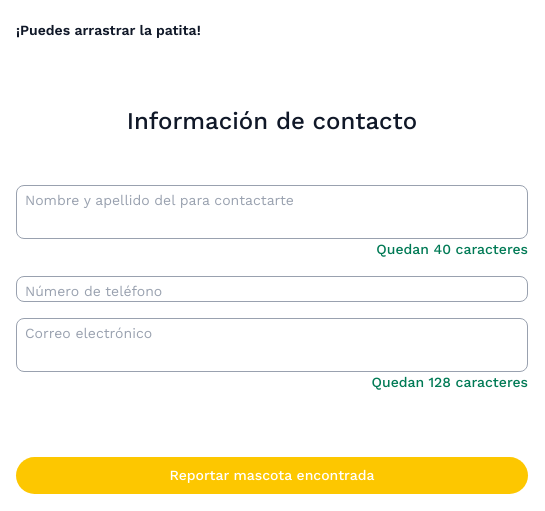
FoundPetReportForm Component › shows all required field errors when form is empty
(page scrolled)
Click the button "Reportar mascota encontrada" at coordinates (272, 476), box left=16, top=457, right=528, bottom=494
(page scrolled)
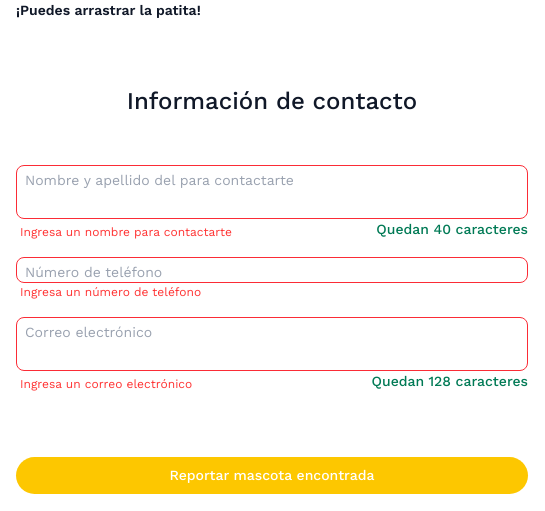
Check: the text "Ingresa un nombre para contactarte" is shown, box left=20, top=223, right=232, bottom=241
Check: the text "Ingresa un número de teléfono" is shown, box left=20, top=285, right=201, bottom=299
Check: the text "Ingresa un correo electrónico" is shown, box left=20, top=375, right=192, bottom=393
